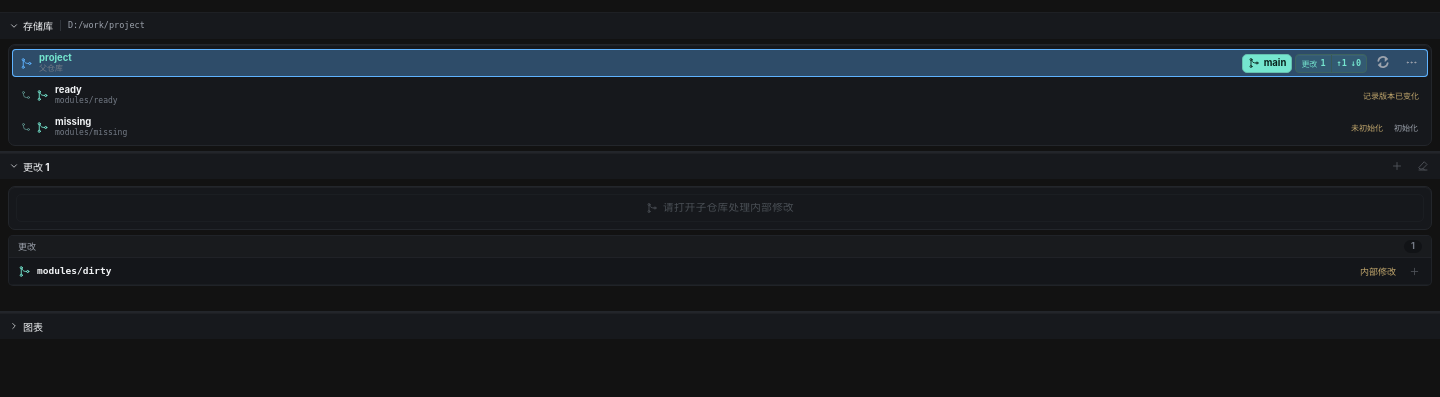
Test: GitPane submodules › re-reads the owning repository after a submodule lifecycle failure
Click the button with aria-label "初始化 modules/missing".
click(1406, 127)  # box top-left (1388, 116), bottom-right (1424, 138)
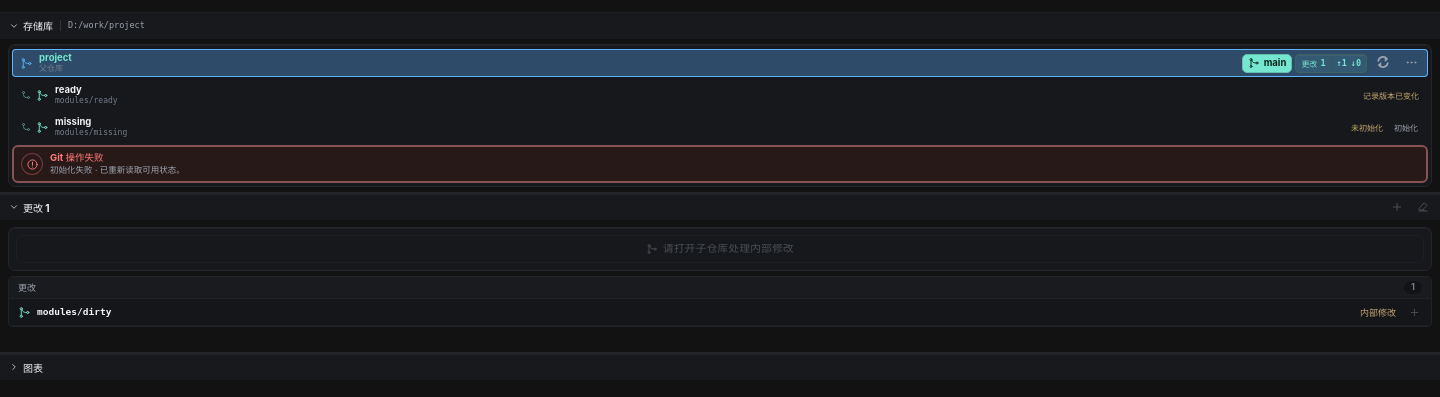
Check: the message shows "初始化失败", box top-left (50, 165), bottom-right (185, 175)
